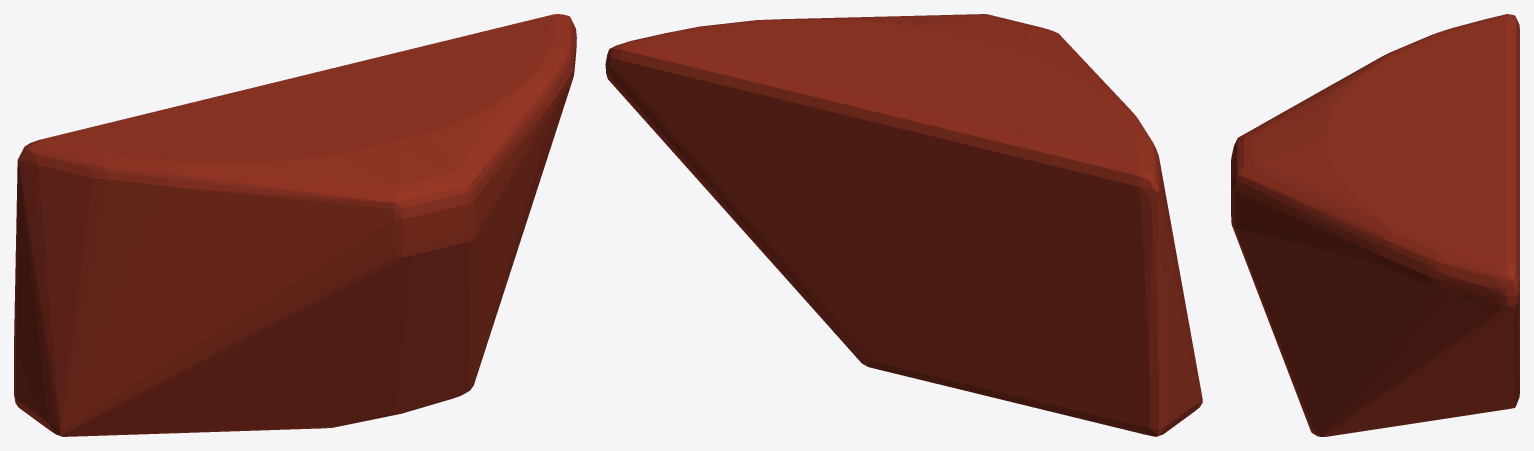
Rendered from right_shoulder_pitch_link_part_15.obj.
3 views of the same model, side by side, from view 1: azimuth 30°, elevation 25°; view 2: azimuth 150°, elevation 25°; view 3: azimuth 270°, elevation 25° (orthographic).
Bounding box in the file's own units: 0.0599 × 0.0273 × 0.027.
